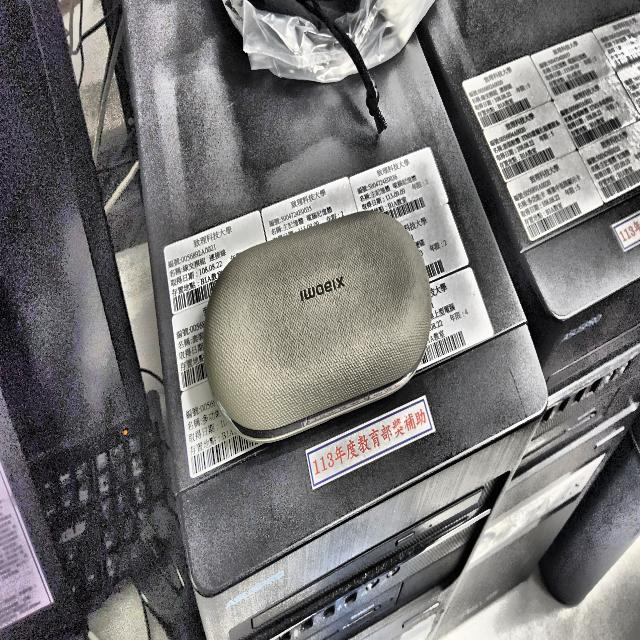Bluetooth headphones: (204, 211, 431, 442)
Screen: (0, 0, 151, 457)
